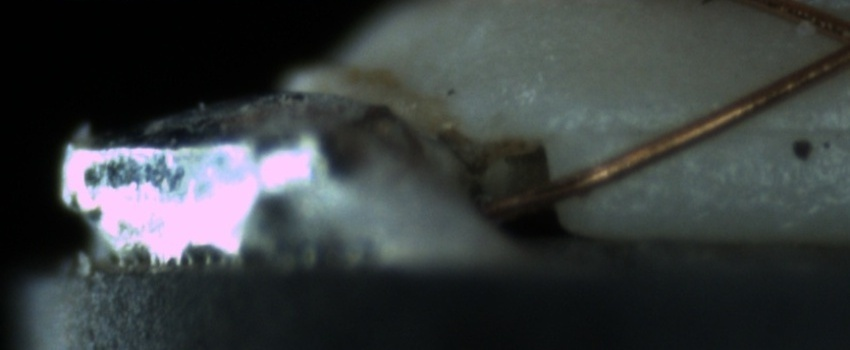CL: (804, 7, 850, 80)
DL: (614, 100, 849, 155)
